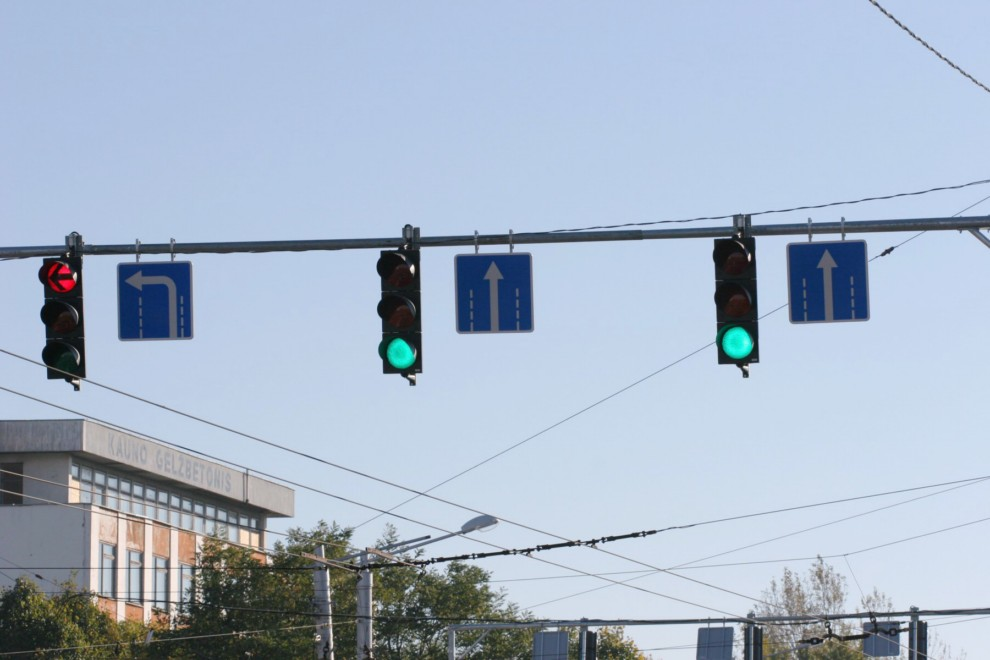tl: (29, 250, 92, 384), (707, 237, 765, 372), (374, 245, 427, 386)
